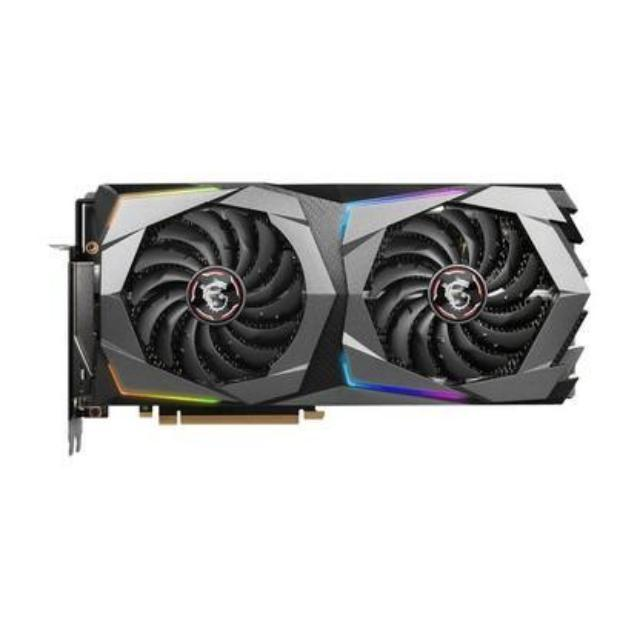GPU: (51, 174, 600, 446)
